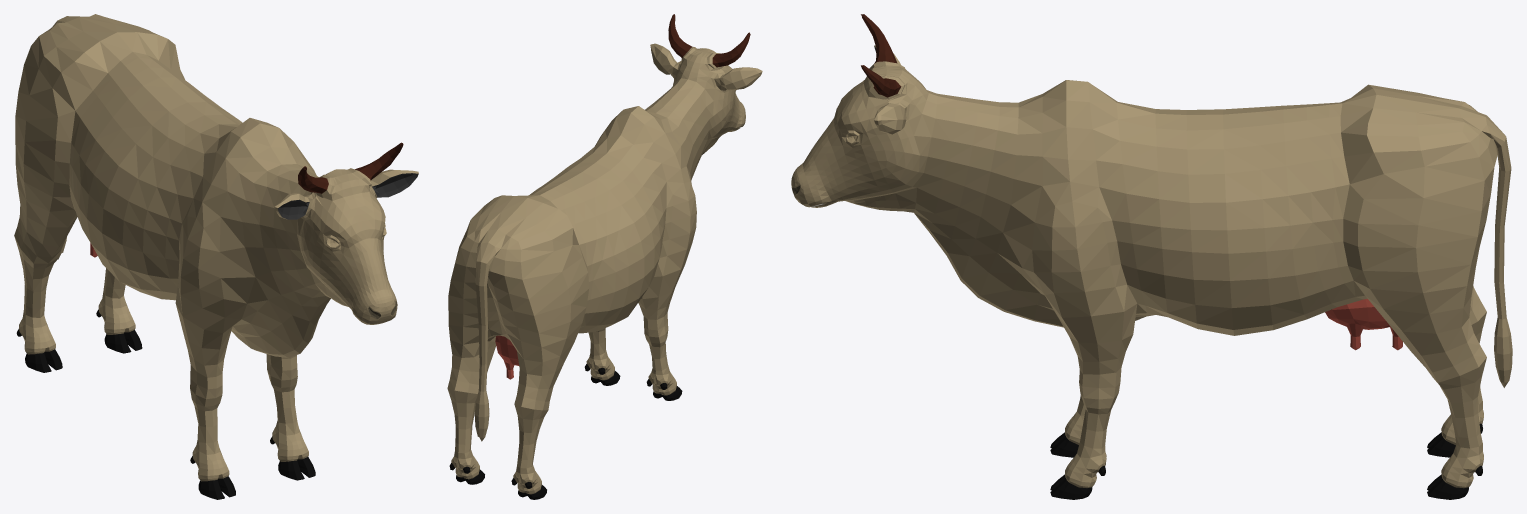
The model's file is zebu_zebu_triangulated.obj.
The picture shows the model from 3 angles, left to right: view 1: azimuth 30°, elevation 25°; view 2: azimuth 150°, elevation 25°; view 3: azimuth 270°, elevation 25°; orthographic projection. The views are drawn at different scales.
Bounding box in the file's own units: 0.7022 × 1.62 × 2.45.
